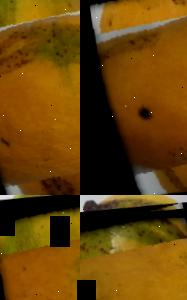Ripe: (84, 0, 187, 195), (0, 0, 80, 195), (80, 201, 187, 300), (0, 195, 80, 300)
